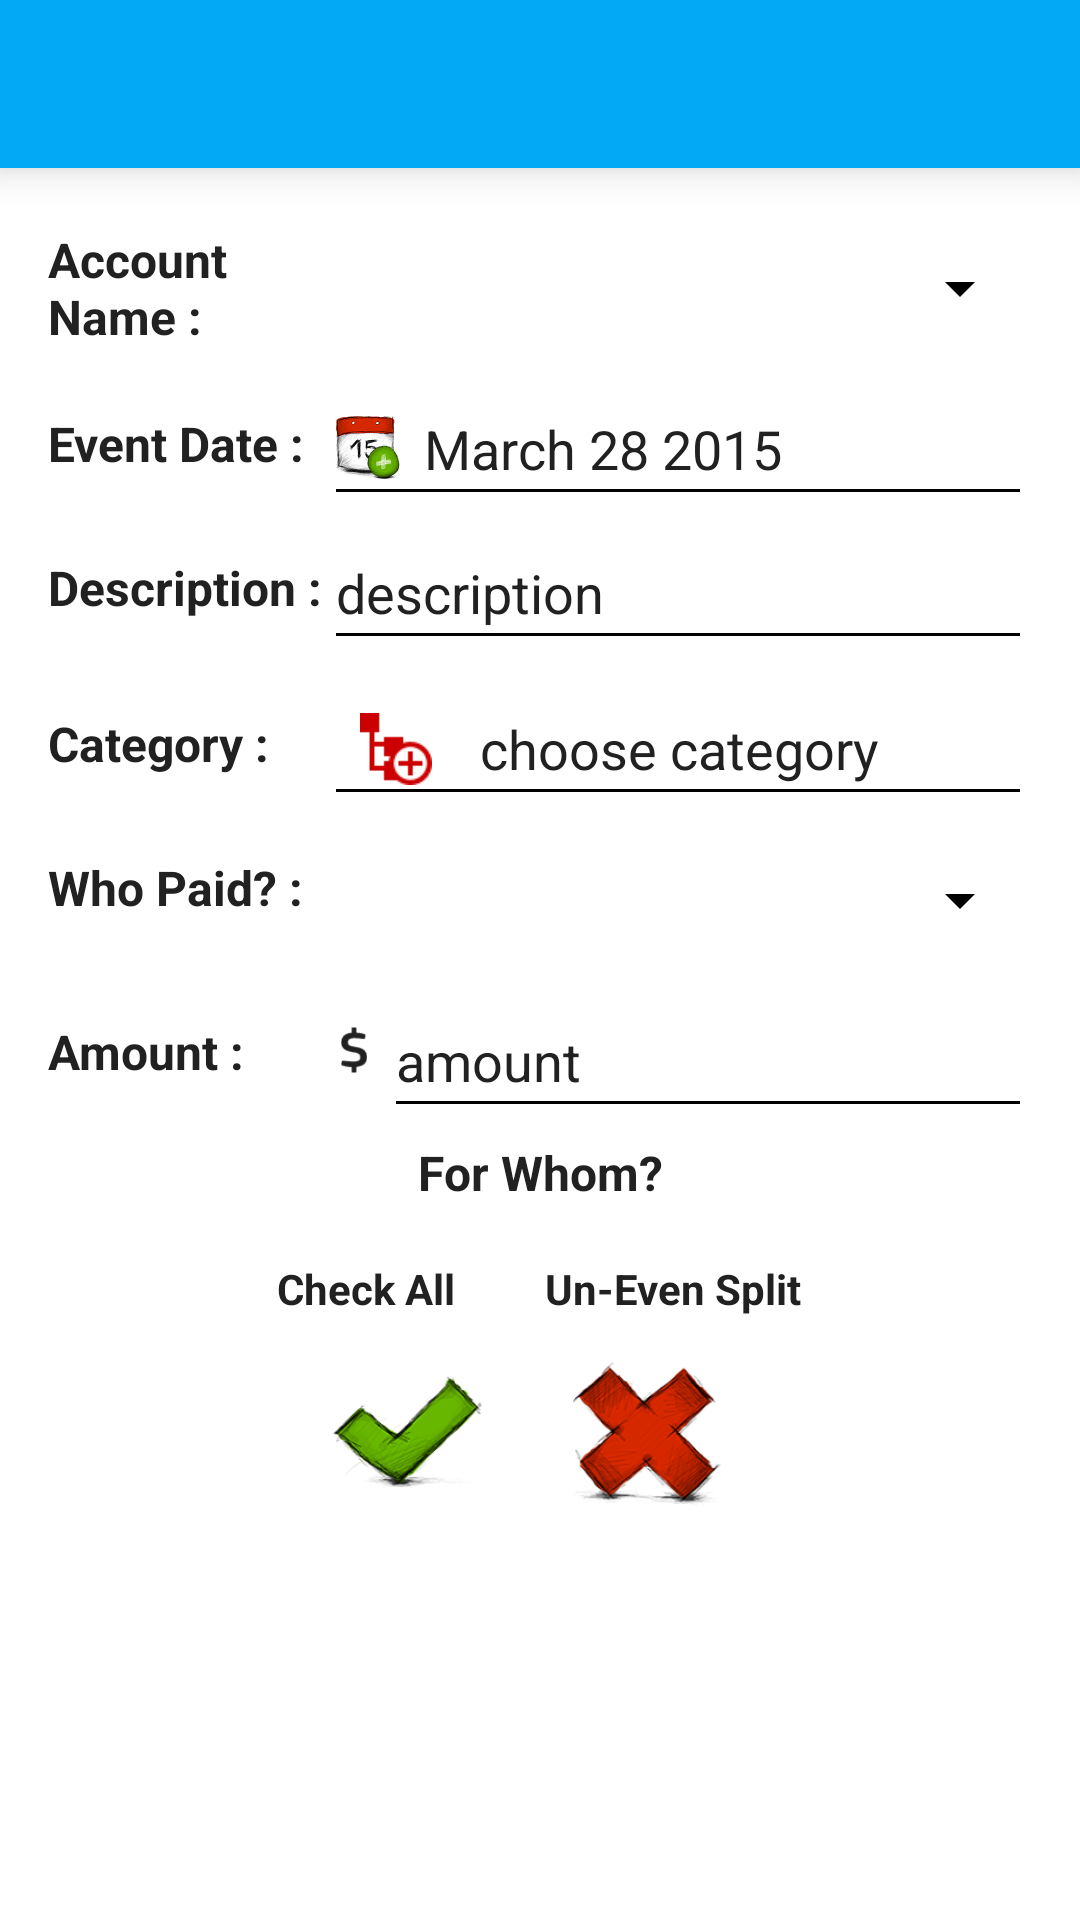

Screen size 1080*1920. Icon name, then its center in pixels as (x,y):
cancel: (646,1433)
